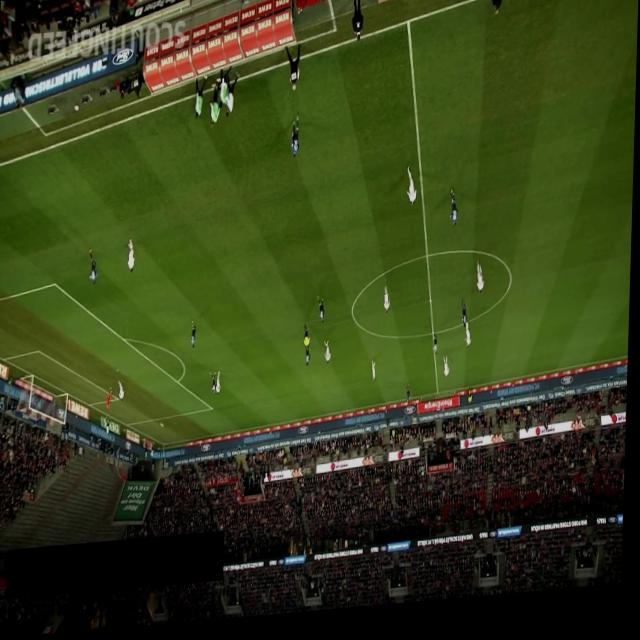goalkeeper: (108, 388, 114, 411)
player: (406, 172, 418, 214), (290, 120, 300, 165), (88, 249, 99, 287), (449, 197, 459, 235), (127, 240, 136, 275), (477, 269, 486, 303), (318, 302, 326, 330), (462, 307, 469, 337), (191, 322, 198, 352), (385, 292, 392, 321), (325, 345, 333, 370), (466, 330, 473, 356), (216, 374, 223, 398), (444, 362, 451, 386), (211, 375, 218, 398), (119, 382, 126, 404), (306, 350, 313, 372), (434, 340, 440, 364), (407, 390, 412, 412), (373, 366, 378, 388)
referee: (304, 328, 312, 356), (469, 393, 475, 415)
